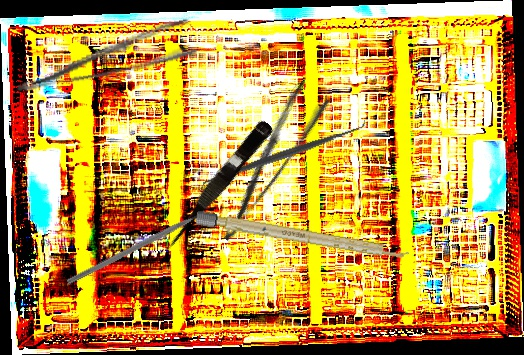Chopper: (66, 206, 217, 293)
Dressing Forceps: (198, 79, 333, 244), (7, 17, 199, 96)
Micro Scissor: (157, 116, 275, 256)
Scalpel Handle: (195, 210, 410, 262)
Spatula Surgical: (194, 117, 371, 194)
